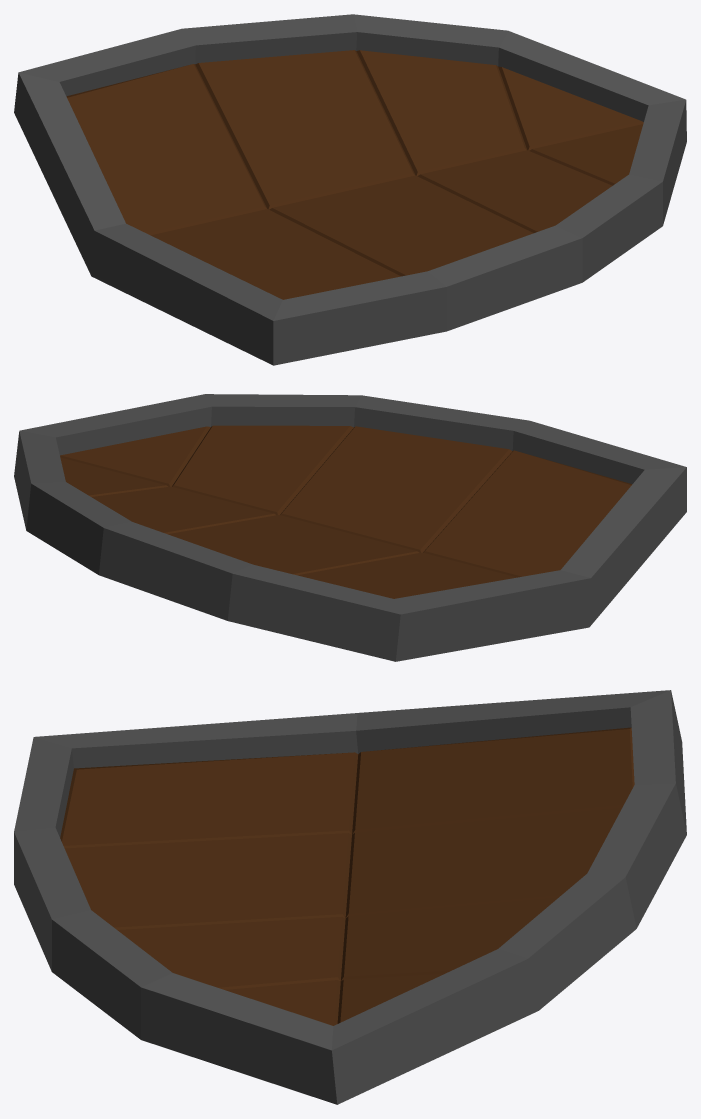
The model's file is tarcza.FBX.
The picture shows the model from 3 angles, top to bottom: view 1: azimuth 30°, elevation 25°; view 2: azimuth 150°, elevation 25°; view 3: azimuth 270°, elevation 25°; orthographic projection. The views are drawn at different scales.
Visible parts, largest first — view 1: Line001; view 2: Line001; view 3: Line001.
Boxes of the visible parts, box(x1,y1,x2,y2) form: Line001: box(14, 14, 686, 365); Line001: box(14, 394, 686, 661); Line001: box(14, 690, 686, 1104).
Size of the model in its own units: 114 by 18.01 by 96.71.
